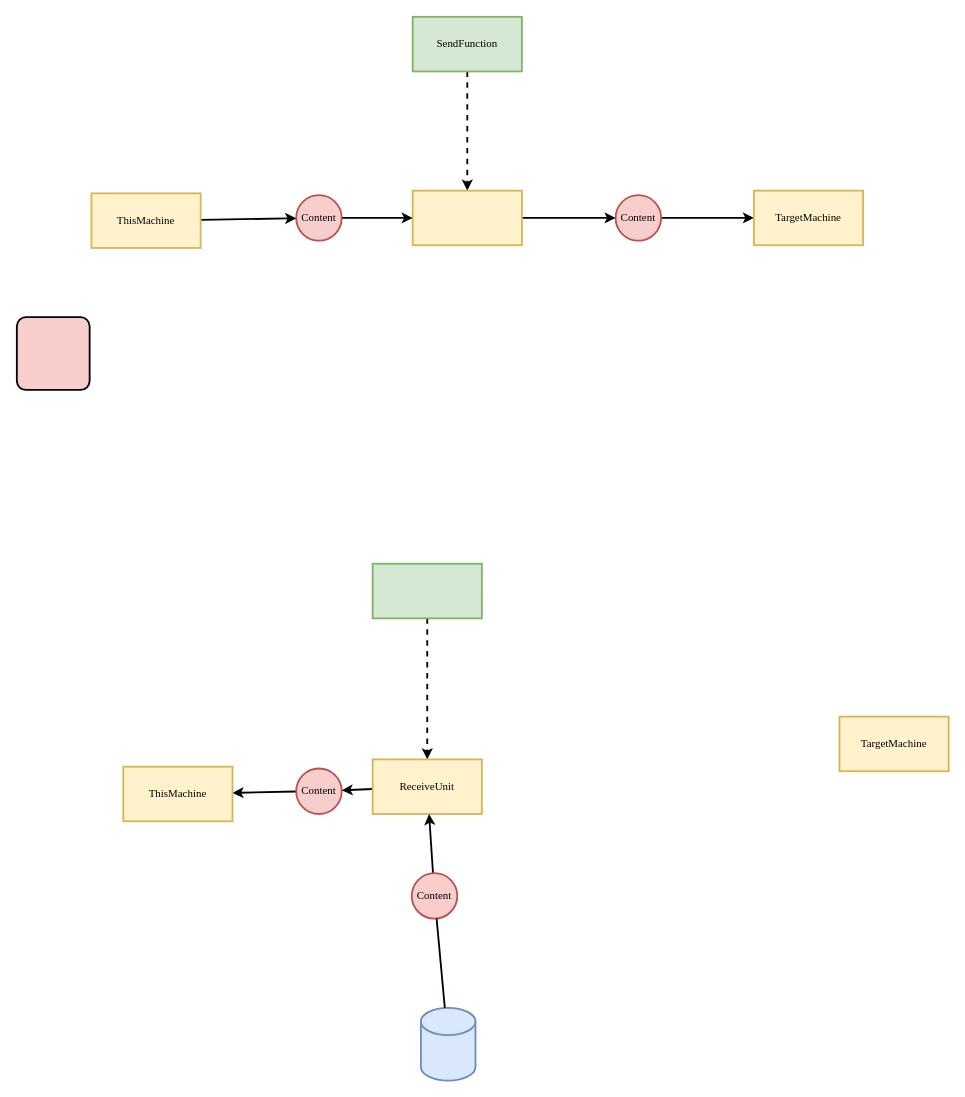
This 965x1097 diagram has some shape labels left out. Here are the shapes that lost their labels. From the top down, the centre of each, then its label:
At pixel 466 217: "SendUnit".
At pixel 52 353: "本机".
At pixel 426 590: "ReceiveFunction".
At pixel 448 1043: "Library".
